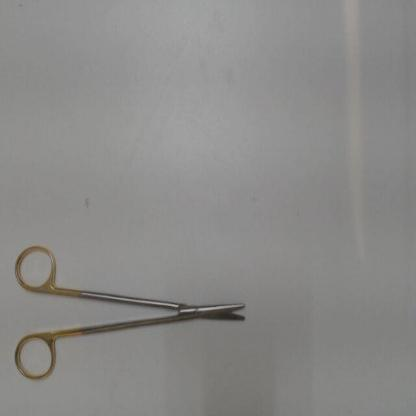7 Metzenbaum Scissors: (11, 238, 248, 388)
